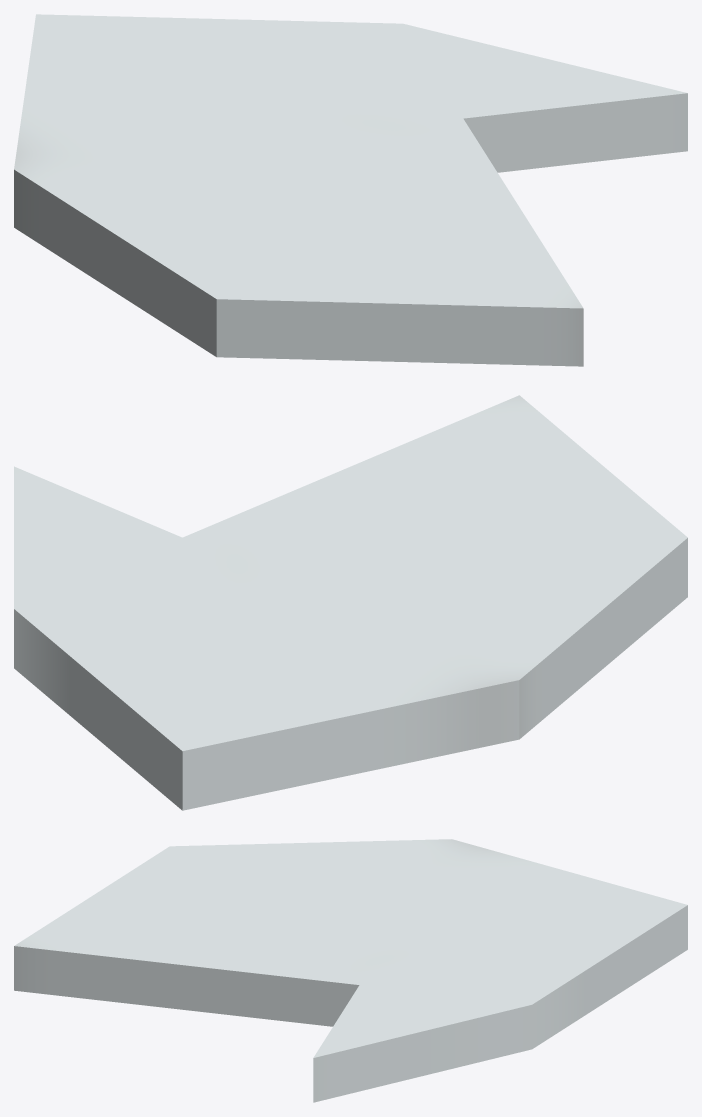
File: ice5.glb
The picture shows the model from 3 angles, top to bottom: view 1: azimuth 30°, elevation 25°; view 2: azimuth 150°, elevation 25°; view 3: azimuth 270°, elevation 25°; orthographic projection. The views are drawn at different scales.
Parts seen in each view (by area): view 1: ice_04; view 2: ice_04; view 3: ice_04.
Part boxes in pixels (bbox=[...]): ice_04: bbox=[14, 14, 687, 366]; ice_04: bbox=[14, 395, 687, 810]; ice_04: bbox=[14, 839, 687, 1102].
Bounding box in the file's own units: 2.9 × 0.2757 × 3.77.
Materials: 1 (1 with a texture image).
